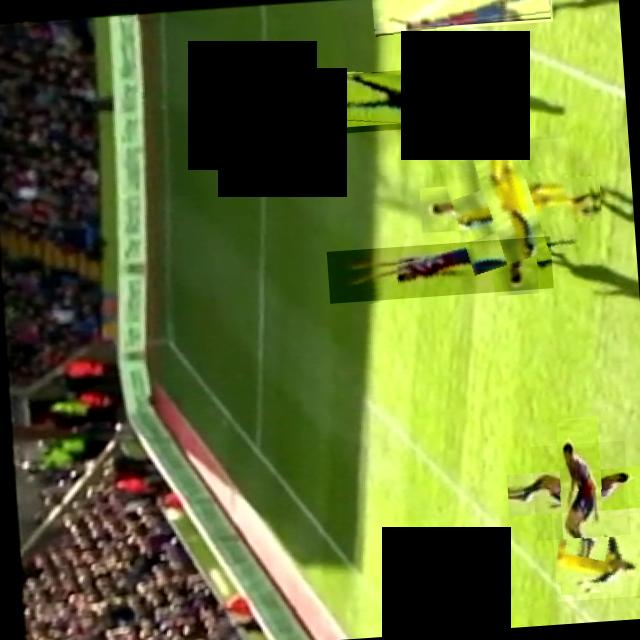referee: (324, 64, 490, 134)
soccer-player: (444, 137, 576, 270), (326, 236, 552, 303), (530, 440, 630, 540), (550, 506, 640, 601), (370, 0, 551, 33)
